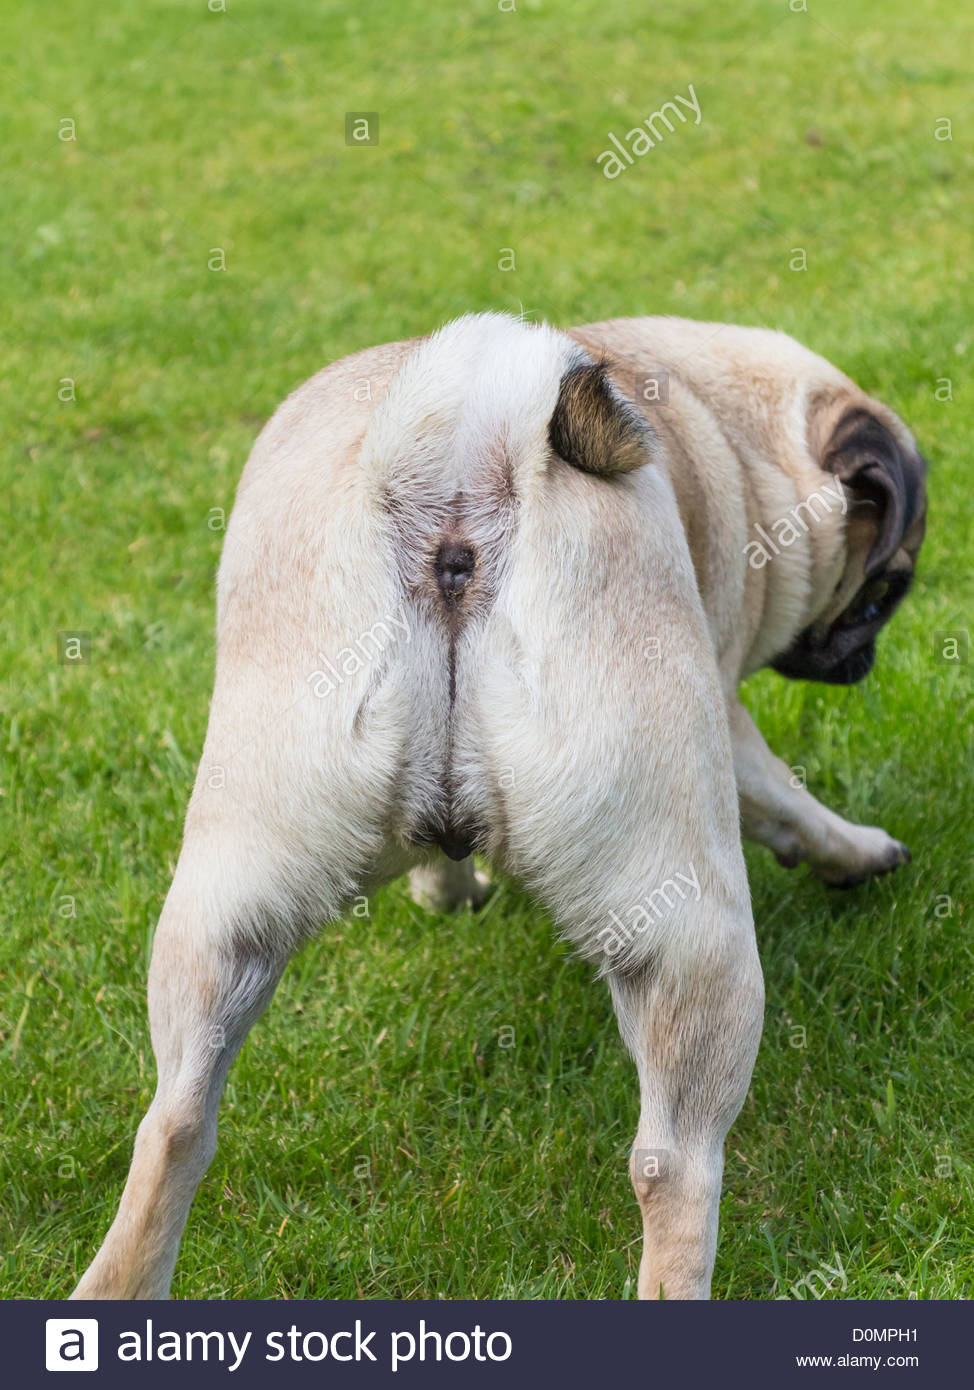dog: (80, 317, 934, 1295)
